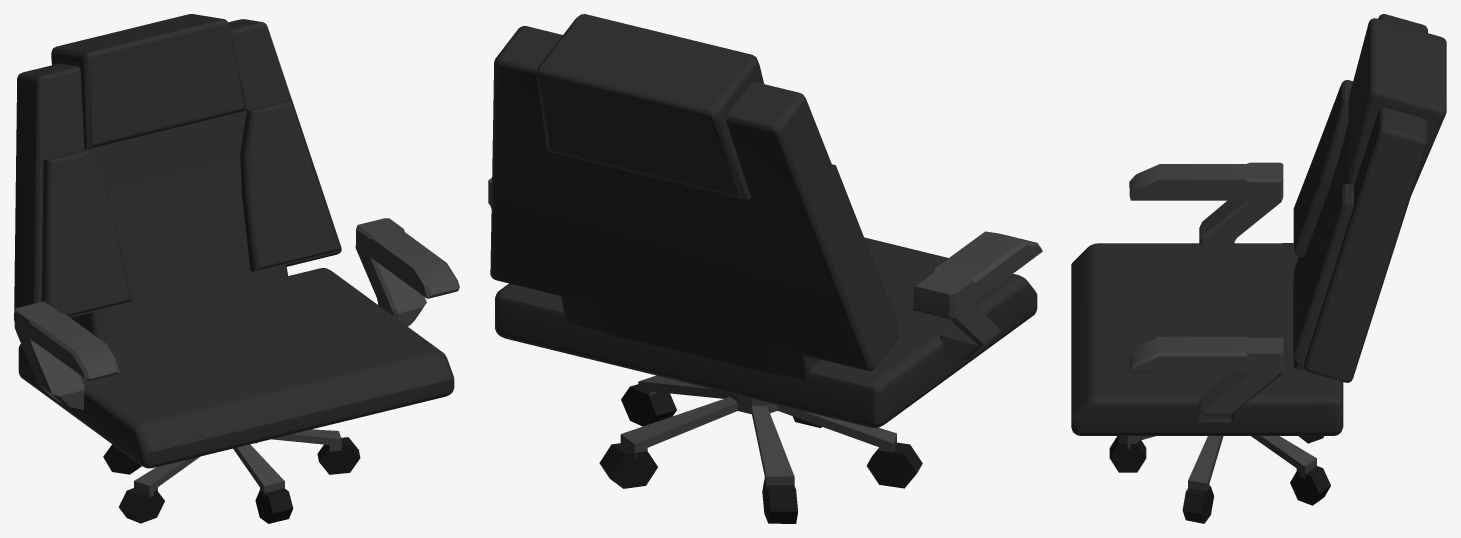
File: fbx_office_chair.fbx
3 renders of one model, left to right at view 1: azimuth 30°, elevation 25°; view 2: azimuth 150°, elevation 25°; view 3: azimuth 270°, elevation 25°, orthographic. The views are drawn at different scales.
Visible parts, largest first — view 1: fbx_office_chair; view 2: fbx_office_chair; view 3: fbx_office_chair.
Part boxes in pixels (box(x1,y1,x2,y2)): fbx_office_chair: box(14, 14, 459, 523); fbx_office_chair: box(488, 14, 1042, 523); fbx_office_chair: box(1071, 14, 1446, 523).
Bounding box in the file's own units: 1.44 × 1.45 × 1.19.
Materials: 1 (1 with a texture image).
